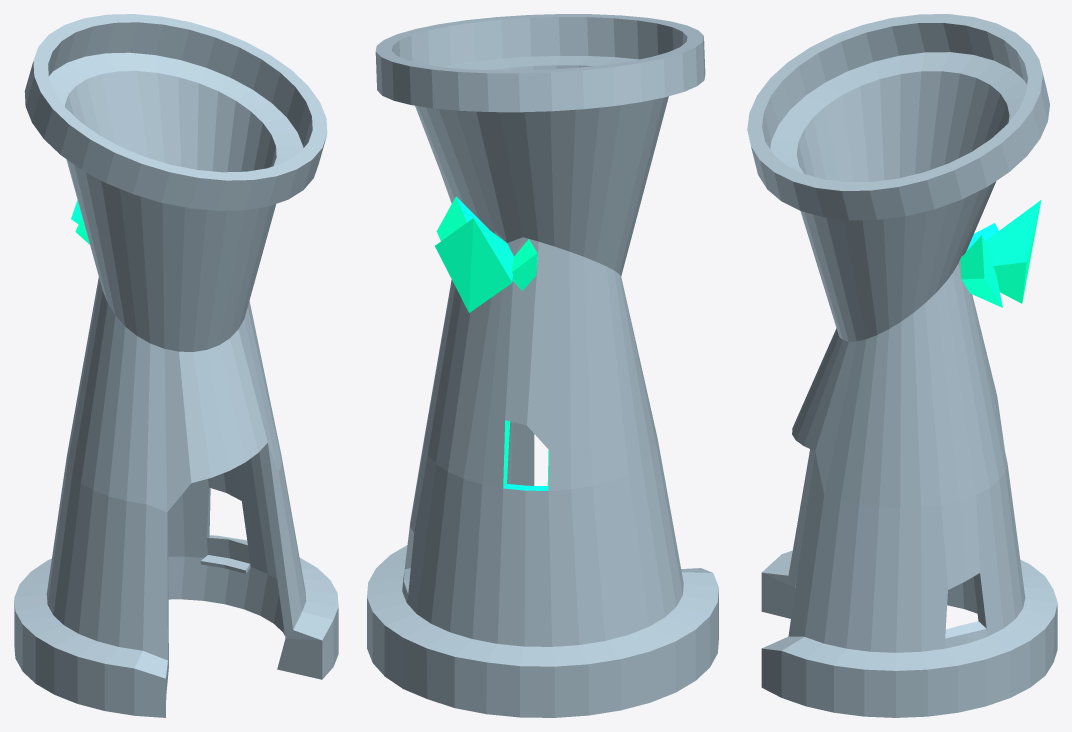
Rendered from NexusTower.fbx.
3 renders of one model, left to right at view 1: azimuth 30°, elevation 25°; view 2: azimuth 150°, elevation 25°; view 3: azimuth 270°, elevation 25°, orthographic. The views are drawn at different scales.
Parts seen in each view (by area): view 1: Outer Wall, Inner Wall; view 2: Outer Wall, Inner Wall; view 3: Outer Wall, Inner Wall.
Boxes of the visible parts, x1,y1,x2,y2 form: Outer Wall: (14,14,338,717); Inner Wall: (48,22,312,635); Outer Wall: (367,14,718,717); Inner Wall: (392,17,687,485); Outer Wall: (747,14,1057,717); Inner Wall: (762,23,1027,613).
Bounding box in the file's own units: 121 × 240 × 116.
